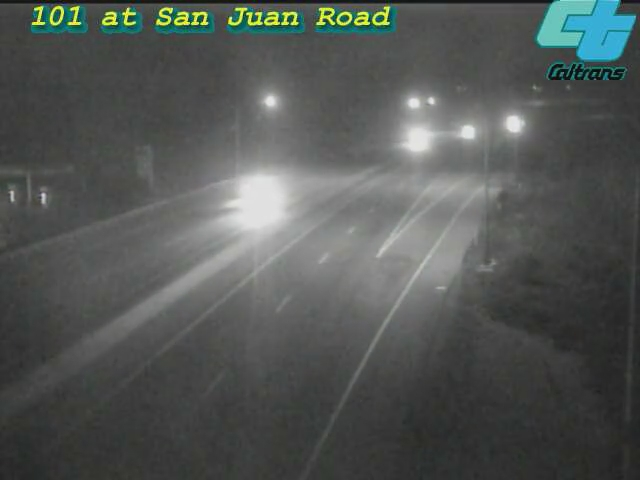vehicle: (213, 157, 293, 237), (390, 115, 440, 165), (442, 106, 492, 156), (490, 99, 540, 149)
